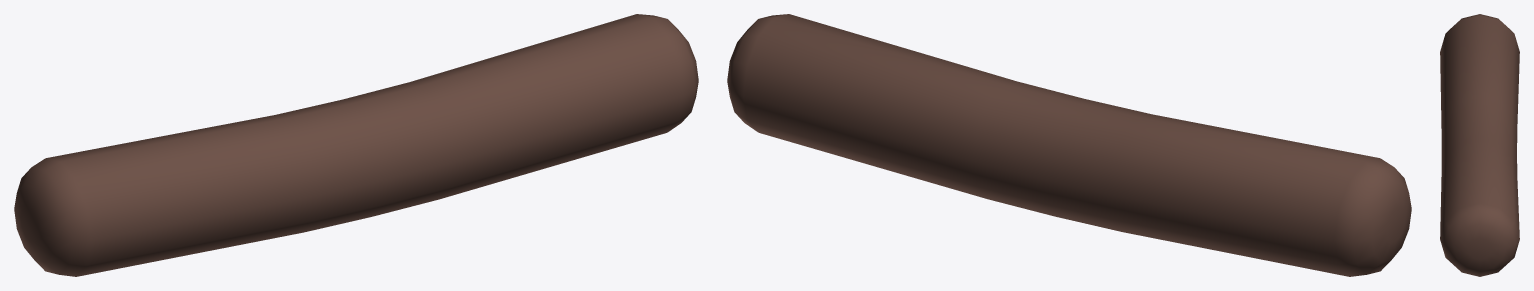
The model's file is Sausage.006.fbx.
The picture shows the model from 3 angles, left to right: view 1: azimuth 30°, elevation 25°; view 2: azimuth 150°, elevation 25°; view 3: azimuth 270°, elevation 25°; orthographic projection. The views are drawn at different scales.
Parts seen in each view (by area): view 1: Sausage.006; view 2: Sausage.006; view 3: Sausage.006.
Part boxes in pixels (x1=…): Sausage.006: x1=14, y1=14, x2=698, y2=276; Sausage.006: x1=727, y1=14, x2=1411, y2=276; Sausage.006: x1=1440, y1=14, x2=1519, y2=276.
Bounding box in the file's own units: 160 × 25.95 × 28.84.
